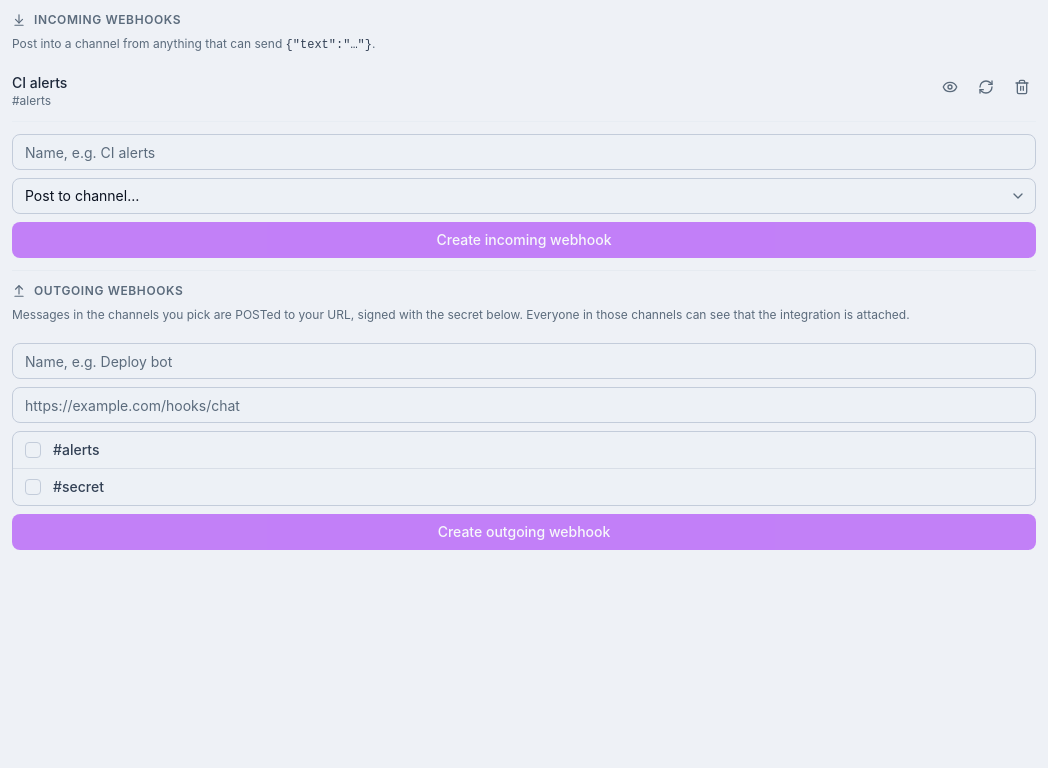
IntegrationsSection › replaces the shown value after rotating
Click the button with test id "hook-reveal": x=950, y=87 936,73 -> 964,101
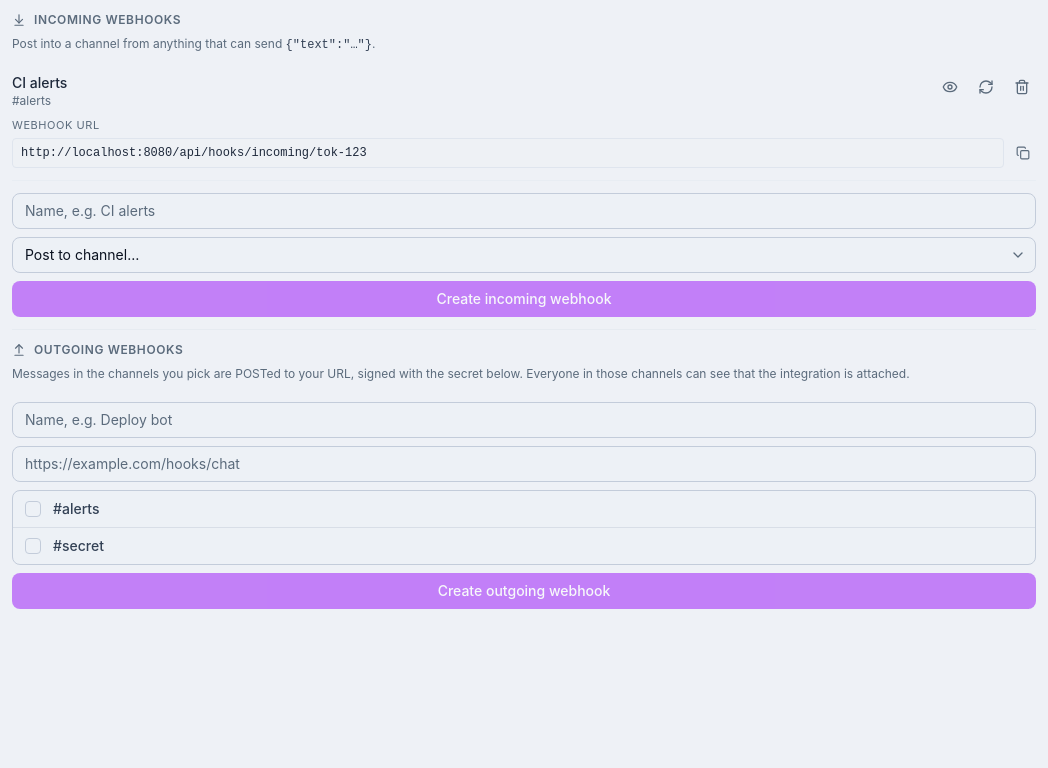
Expected: the text "http://localhost:8080/api/hooks/incoming/tok-123" is shown, 12,138 -> 1004,168
Click the button with test id "hook-rotate": x=986, y=87 972,73 -> 1000,101
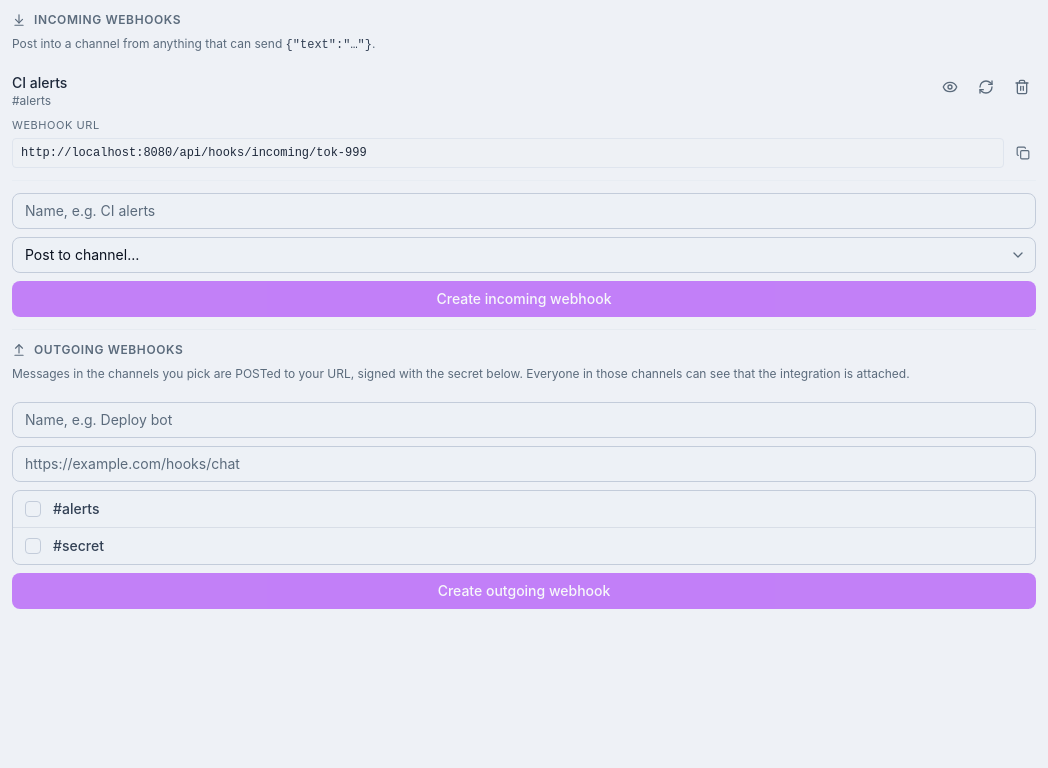
Expected: the text "http://localhost:8080/api/hooks/incoming/tok-999" is shown, 12,138 -> 1004,168
Expected: the text "tok-123" is gone
